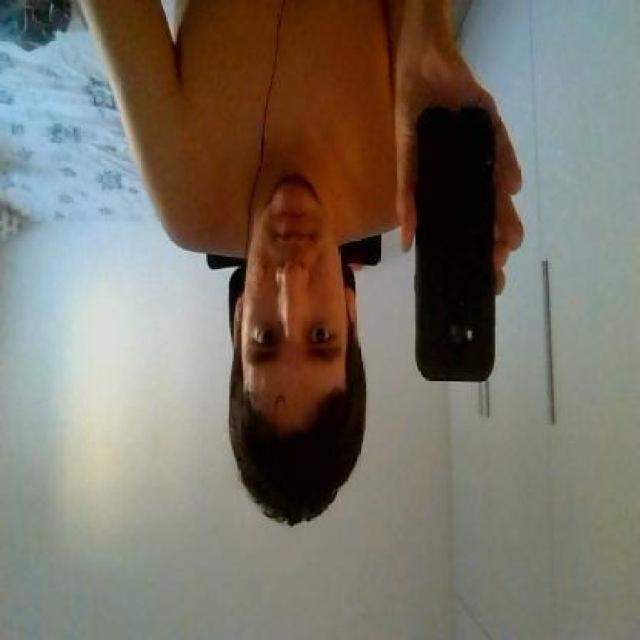cellphone: (415, 103, 500, 384)
